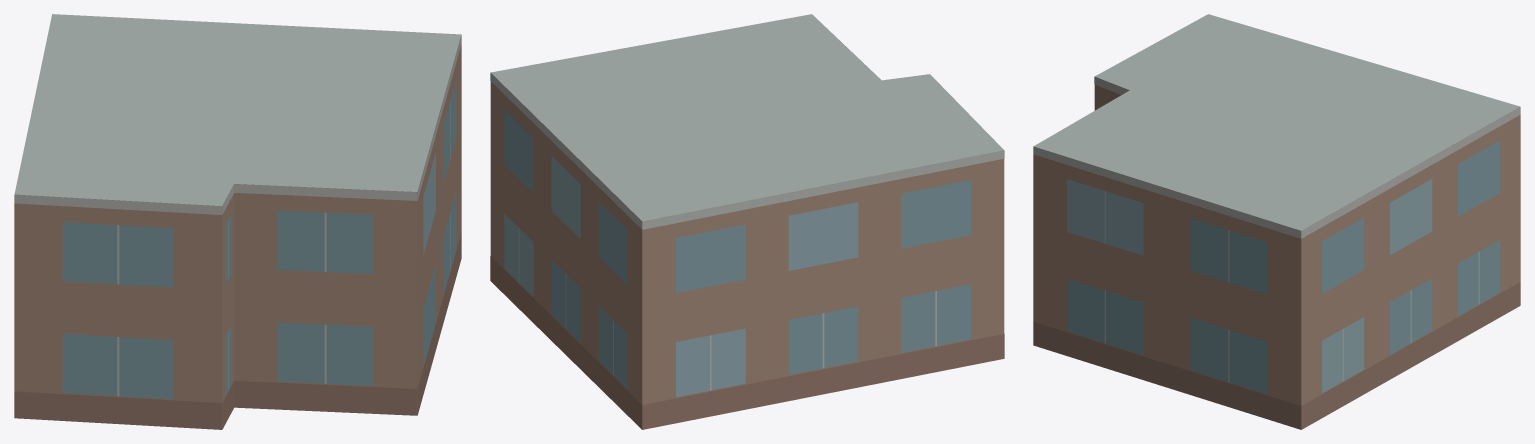
The model's file is survey-upis-32622073.glb.
3 views of the same model, side by side, from view 1: azimuth 30°, elevation 25°; view 2: azimuth 150°, elevation 25°; view 3: azimuth 270°, elevation 25° (orthographic). The views are drawn at different scales.
Visible parts, largest first — view 1: survey-upis-32622073.tmp; view 2: survey-upis-32622073.tmp; view 3: survey-upis-32622073.tmp.
Boxes of the visible parts, bbox=[...] form: survey-upis-32622073.tmp: bbox=[14, 14, 461, 429]; survey-upis-32622073.tmp: bbox=[490, 14, 1004, 429]; survey-upis-32622073.tmp: bbox=[1033, 14, 1520, 429].
Bounding box in the file's own units: 14.26 × 6.1 × 13.54.
